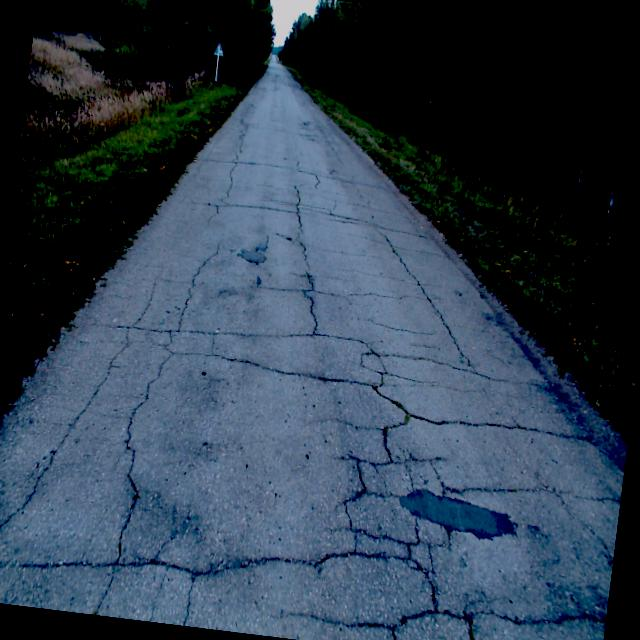road: (0, 54, 622, 640)
